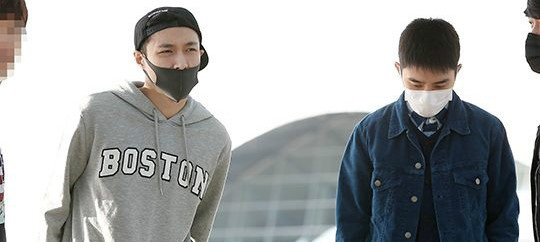face_mask: (148, 34, 200, 102), (404, 67, 453, 118), (521, 10, 540, 75)
